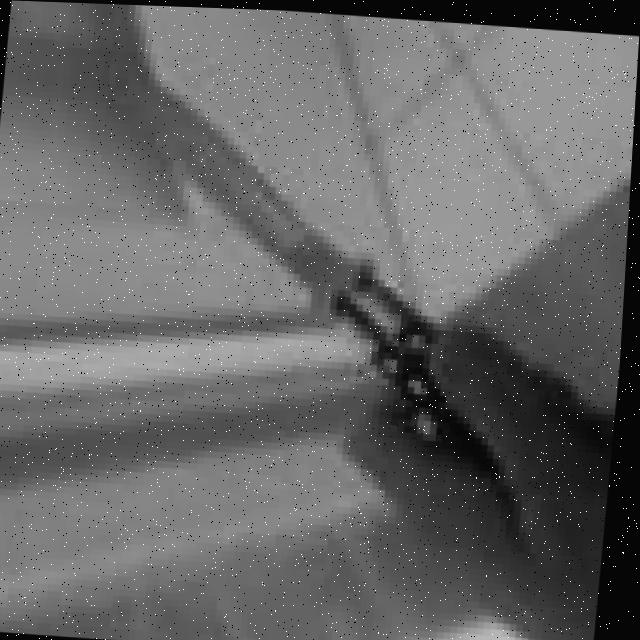knife: (60, 37, 468, 414)
